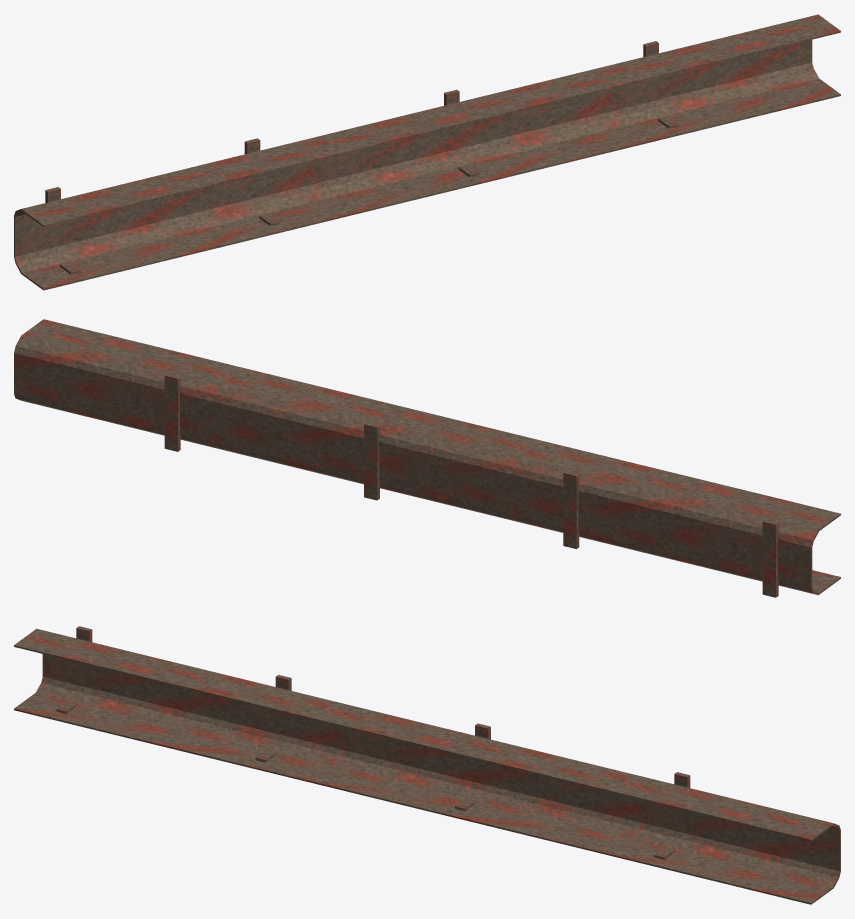
The model's file is Gutter_Straight_2m_Rusted.glb.
3 renders of one model, top to bottom at view 1: azimuth 30°, elevation 25°; view 2: azimuth 150°, elevation 25°; view 3: azimuth 330°, elevation 25°, orthographic.
Visible parts, largest first — view 1: Corrugated_Seamless_Gutter_Shell; view 2: Corrugated_Seamless_Gutter_Shell, Gutter_Hanger_Strap_01, Gutter_Hanger_Strap_02, Gutter_Hanger_Strap_04, Gutter_Hanger_Strap_03; view 3: Corrugated_Seamless_Gutter_Shell.
Part boxes in pixels (bbox=[...]): Corrugated_Seamless_Gutter_Shell: bbox=[14, 14, 840, 290]; Corrugated_Seamless_Gutter_Shell: bbox=[14, 319, 840, 595]; Gutter_Hanger_Strap_01: bbox=[762, 519, 778, 597]; Gutter_Hanger_Strap_02: bbox=[563, 471, 579, 548]; Gutter_Hanger_Strap_04: bbox=[164, 373, 180, 451]; Gutter_Hanger_Strap_03: bbox=[364, 422, 379, 500]; Corrugated_Seamless_Gutter_Shell: bbox=[14, 628, 840, 904].
Size of the model in its own units: 2 by 0.178 by 0.138.
2 materials, 2 textured.
